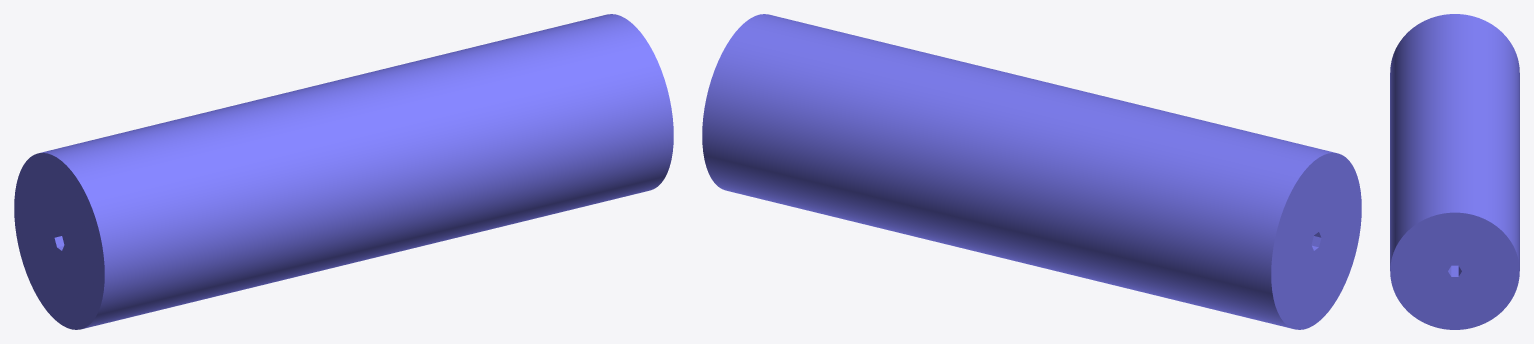
The model's file is Exc_Roller_V4.obj.
The picture shows the model from 3 angles, left to right: view 1: azimuth 30°, elevation 25°; view 2: azimuth 150°, elevation 25°; view 3: azimuth 270°, elevation 25°; orthographic projection. The views are drawn at different scales.
Parts seen in each view (by area): view 1: mesh28027, mesh28028; view 2: mesh28027, mesh28028; view 3: mesh28027, mesh28029.
Boxes of the visible parts, <box> form: mesh28027: <box>39,14,673,328</box>; mesh28028: <box>14,153,104,329</box>; mesh28027: <box>702,14,1336,328</box>; mesh28028: <box>1271,153,1361,329</box>; mesh28027: <box>1390,14,1519,270</box>; mesh28029: <box>1390,212,1519,329</box>.
Size of the model in its own units: 0.29 by 0.0799 by 0.08.
